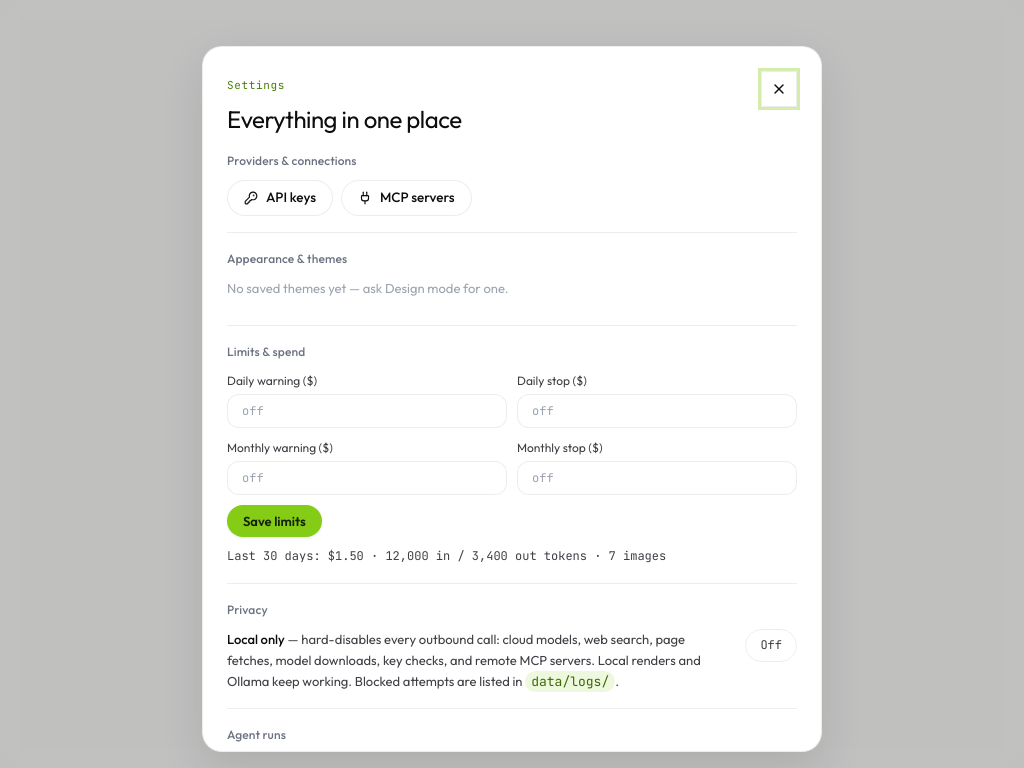
it: SettingsDialog › rejects a non-numeric limit with the field's name and saves nothing
Check: the button "Save limits" is shown, box [227,505,322,537]
Type "lots" into the field labelled "Monthly warning ($)" at (367, 478), box [227,461,507,495]
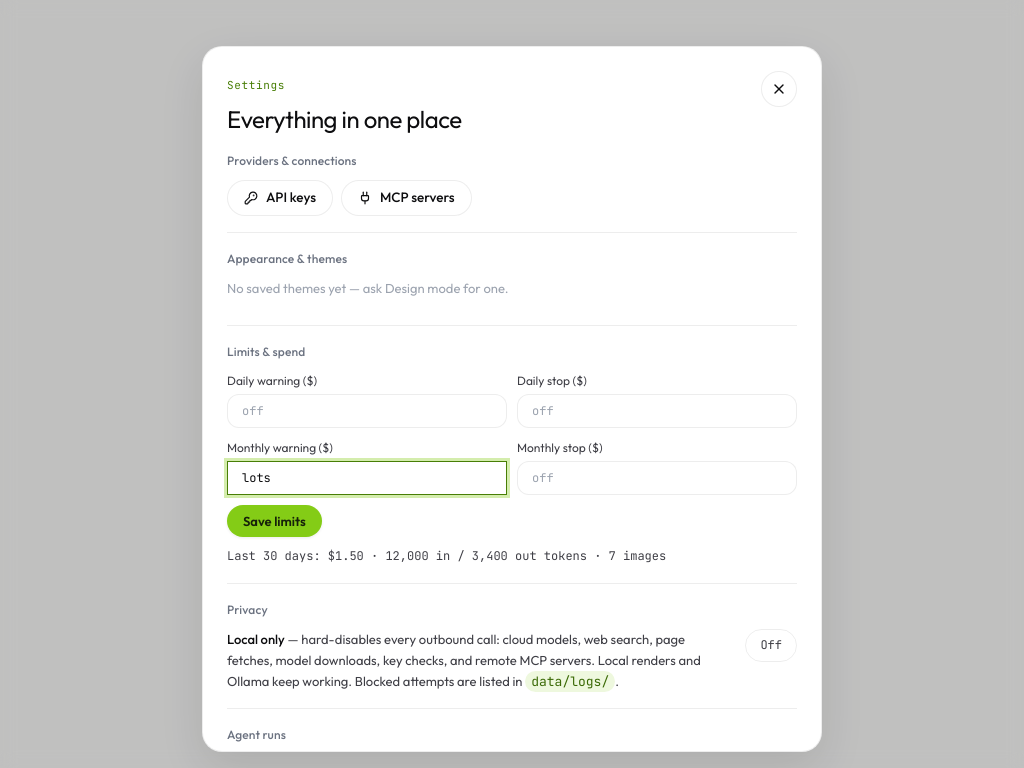
Click the button "Save limits" at (274, 521), box [227,505,322,537]
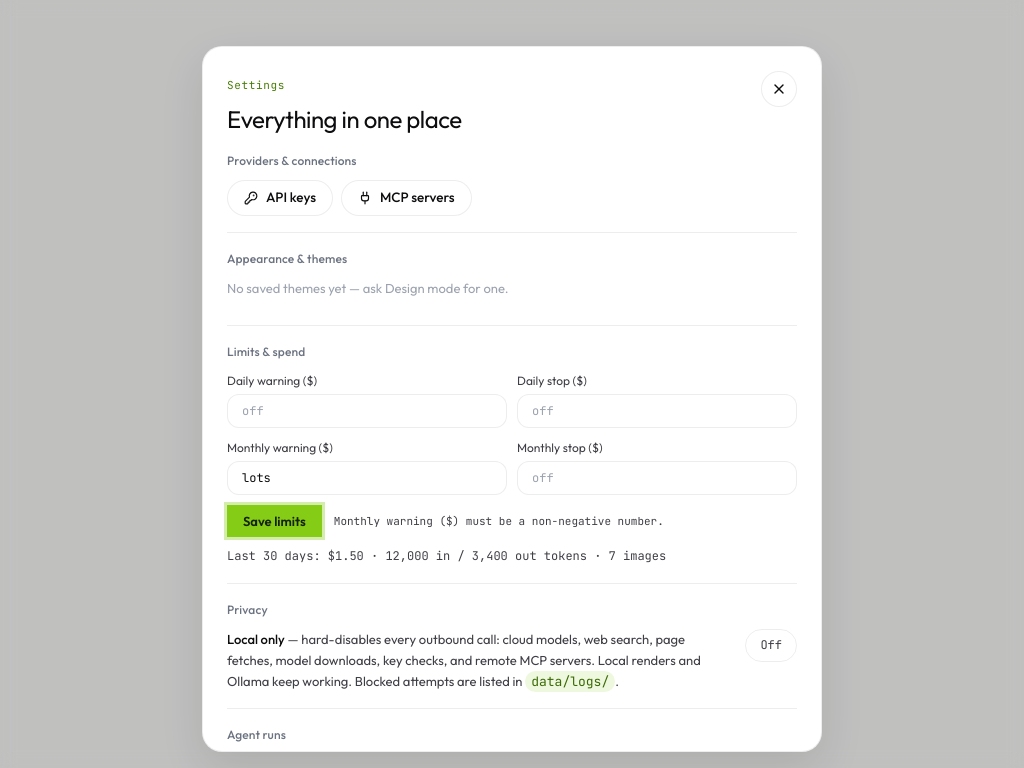
Check: the text "Monthly warning ($) must be a non-negative number." is shown, box [334,513,664,530]
